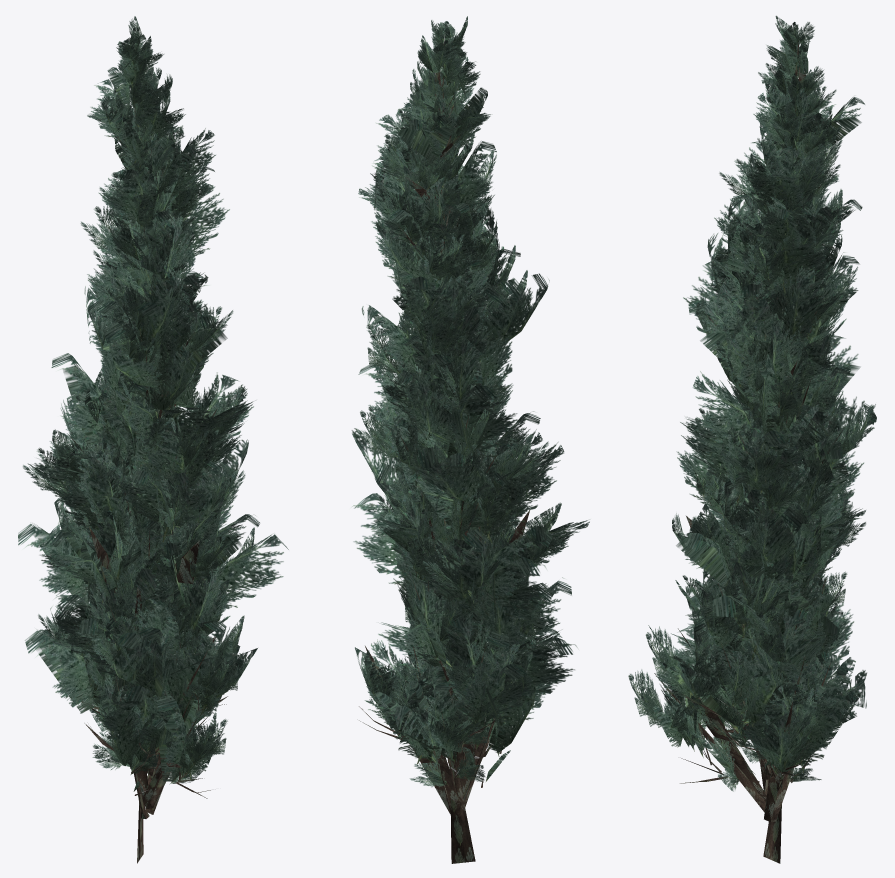
Rendered from cipreste.glb.
The picture shows the model from 3 angles, left to right: view 1: azimuth 30°, elevation 25°; view 2: azimuth 150°, elevation 25°; view 3: azimuth 270°, elevation 25°; orthographic projection. The views are drawn at different scales.
Parts seen in each view (by area): view 1: Cypress_V2_test_Cypress_2_sided_0, Cypress_V2_test_Cypress_bark_0; view 2: Cypress_V2_test_Cypress_2_sided_0, Cypress_V2_test_Cypress_bark_0; view 3: Cypress_V2_test_Cypress_2_sided_0, Cypress_V2_test_Cypress_bark_0.
Boxes of the visible parts, <box> form: Cypress_V2_test_Cypress_2_sided_0: <box>18,16,288,791</box>; Cypress_V2_test_Cypress_bark_0: <box>69,46,241,863</box>; Cypress_V2_test_Cypress_2_sided_0: <box>351,16,589,787</box>; Cypress_V2_test_Cypress_bark_0: <box>359,39,529,863</box>; Cypress_V2_test_Cypress_2_sided_0: <box>628,15,876,791</box>; Cypress_V2_test_Cypress_bark_0: <box>654,43,842,863</box>.
Bounding box in the file's own units: 1.66 × 5.27 × 1.43.
Materials: 3 (2 with a texture image).
